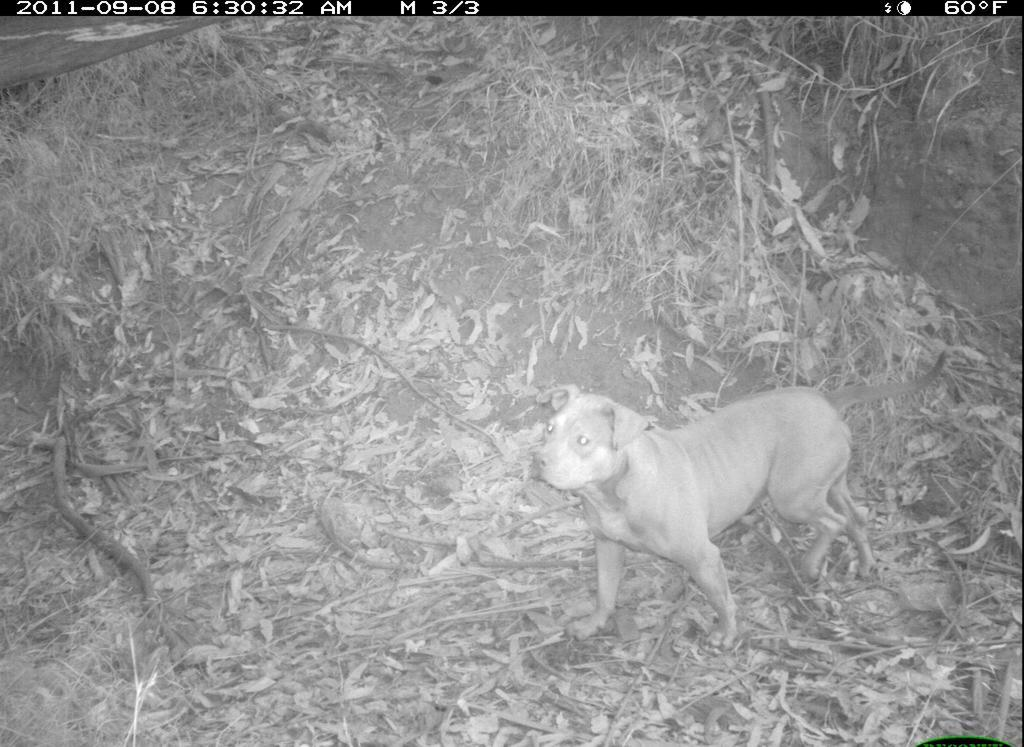dog: (522, 356, 979, 649)
